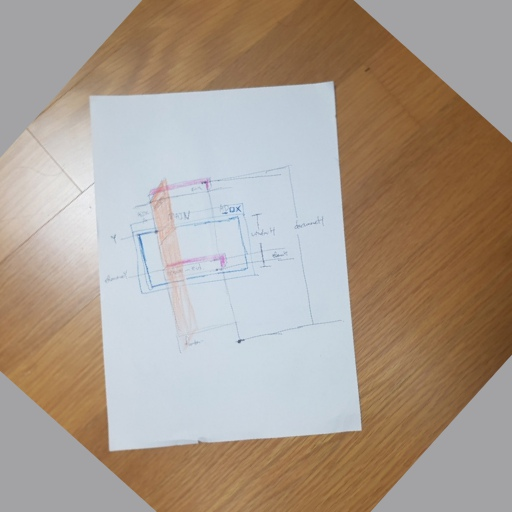Paper_2: (78, 77, 374, 458)
